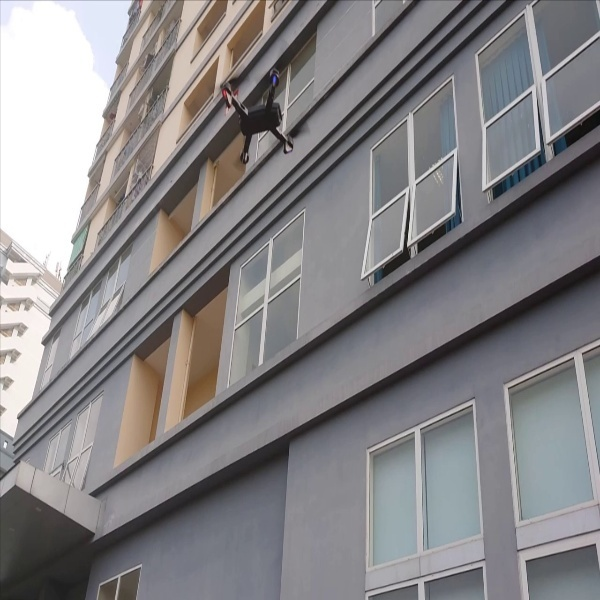drone: (211, 55, 306, 170)
